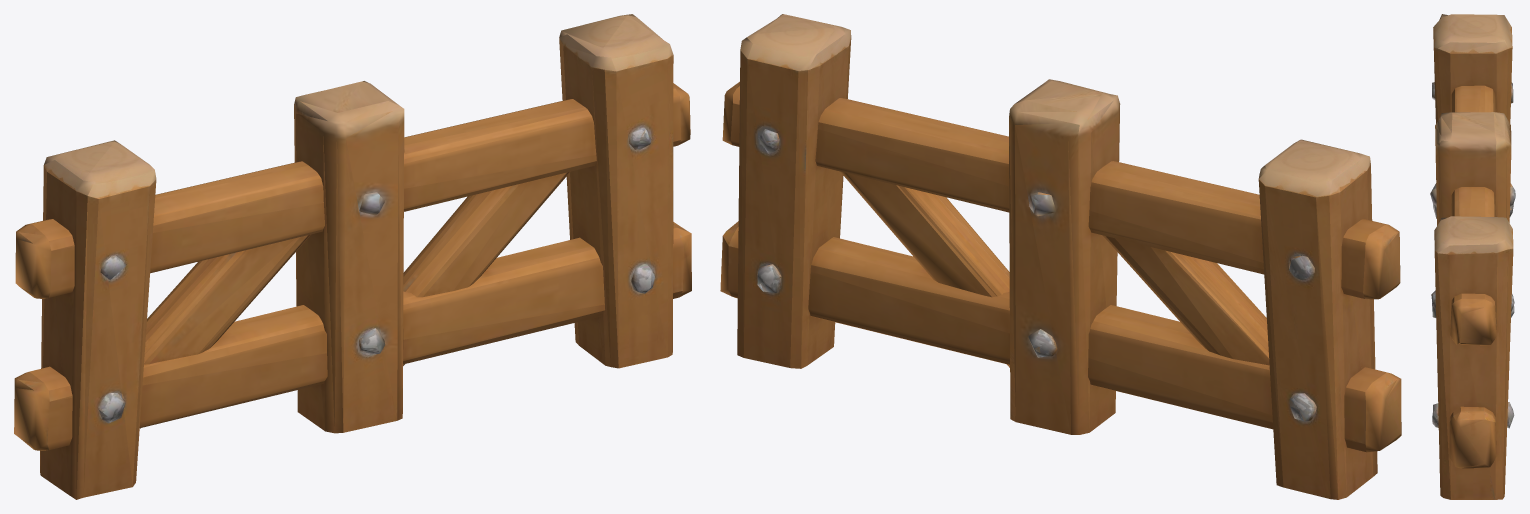
The model's file is plot-fence.glb.
The picture shows the model from 3 angles, left to right: view 1: azimuth 30°, elevation 25°; view 2: azimuth 150°, elevation 25°; view 3: azimuth 270°, elevation 25°; orthographic projection. The views are drawn at different scales.
Size of the model in its own units: 1 by 0.4629 by 0.1396.
Materials: 1 (1 with a texture image).
